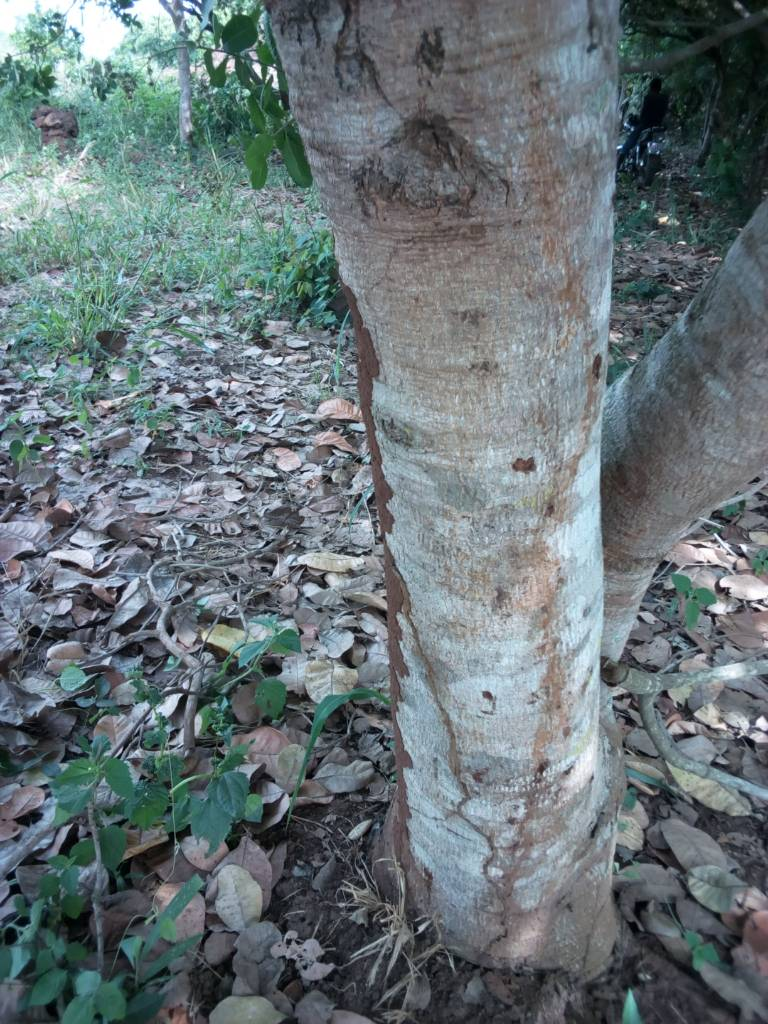Termites: (438, 688, 613, 966), (358, 269, 408, 907)
